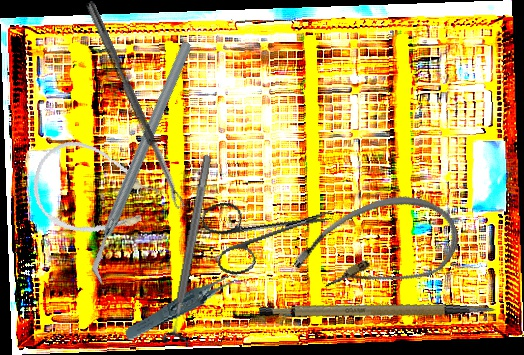Cannula: (284, 176, 469, 323), (23, 132, 166, 252)
Chopper: (17, 40, 267, 287)
Fixation Ring: (159, 152, 223, 348)
Iris Scissors: (199, 177, 342, 280)
Scalpel Handle: (258, 274, 496, 352)
Surgical Spoon: (84, 0, 185, 210)
Tissue Forceps: (118, 271, 253, 342)
